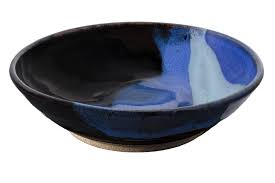bowl: (7, 19, 267, 155)
